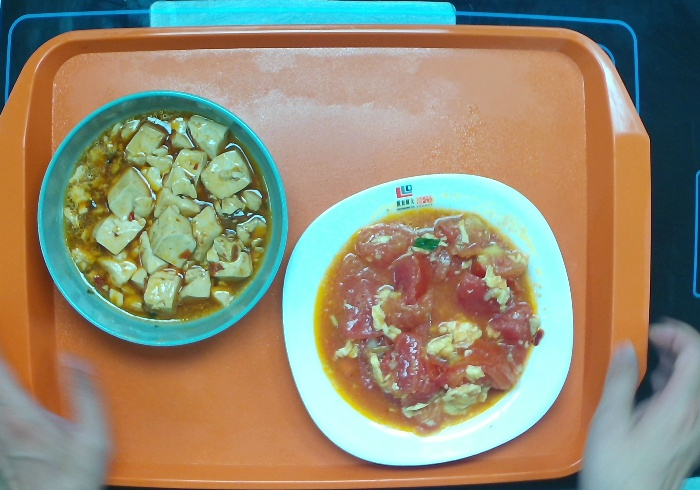ZNLD-Qing_Hua_Yuan_Wan: (31, 84, 297, 351)
ZNLD-Yuan_Jiao_Pan: (278, 168, 578, 470)
